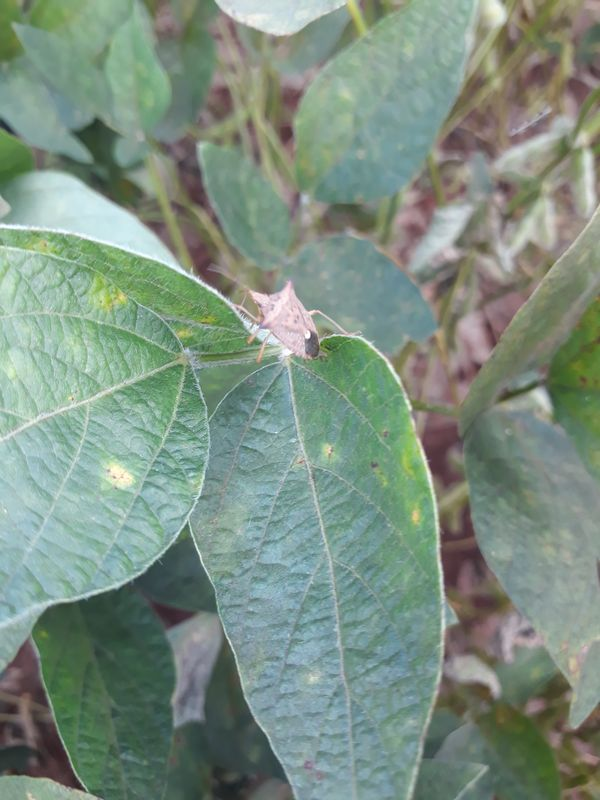Euschistus_heros_adulto: (206, 261, 370, 385)
